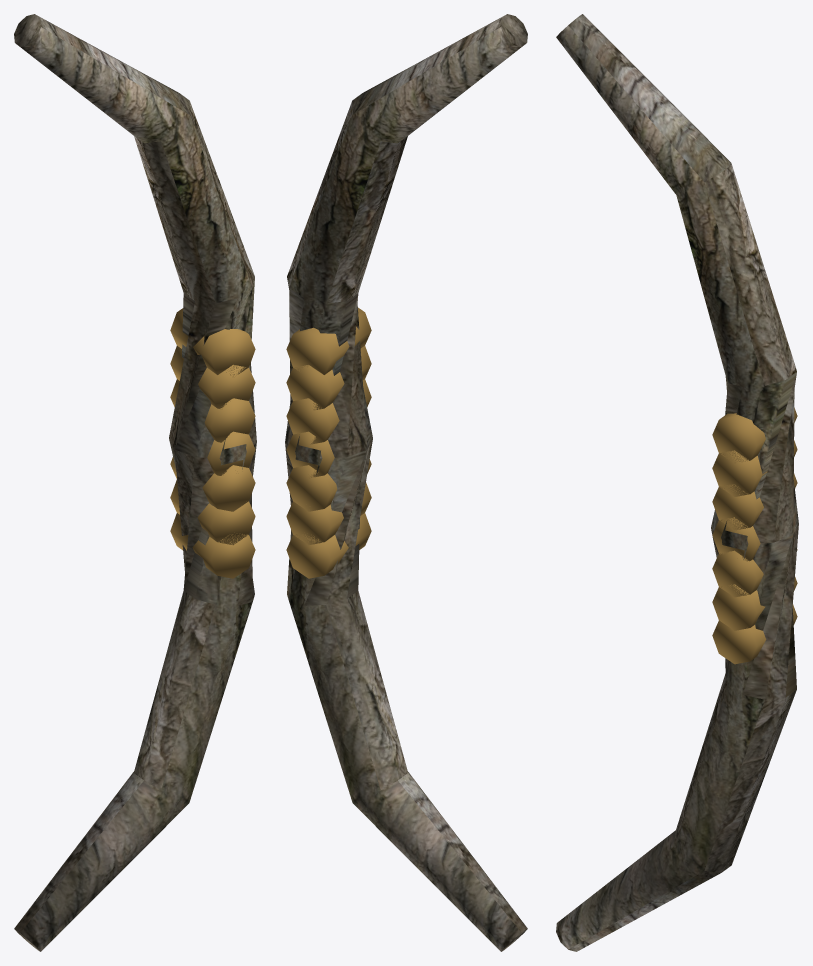
Rendered from ironbark_bow.glb.
3 views of the same model, side by side, from view 1: azimuth 30°, elevation 25°; view 2: azimuth 150°, elevation 25°; view 3: azimuth 330°, elevation 25° (orthographic).
Visible parts, largest first — view 1: Carved recurve bow; view 2: Carved recurve bow; view 3: Carved recurve bow.
Boxes of the visible parts, x1,y1,x2,y2 form: Carved recurve bow: (14, 14, 256, 951); Carved recurve bow: (285, 14, 527, 951); Carved recurve bow: (556, 14, 798, 951).
Size of the model in its own units: 0.3655 by 1.4 by 0.1141.
Materials: 2 (1 with a texture image).
